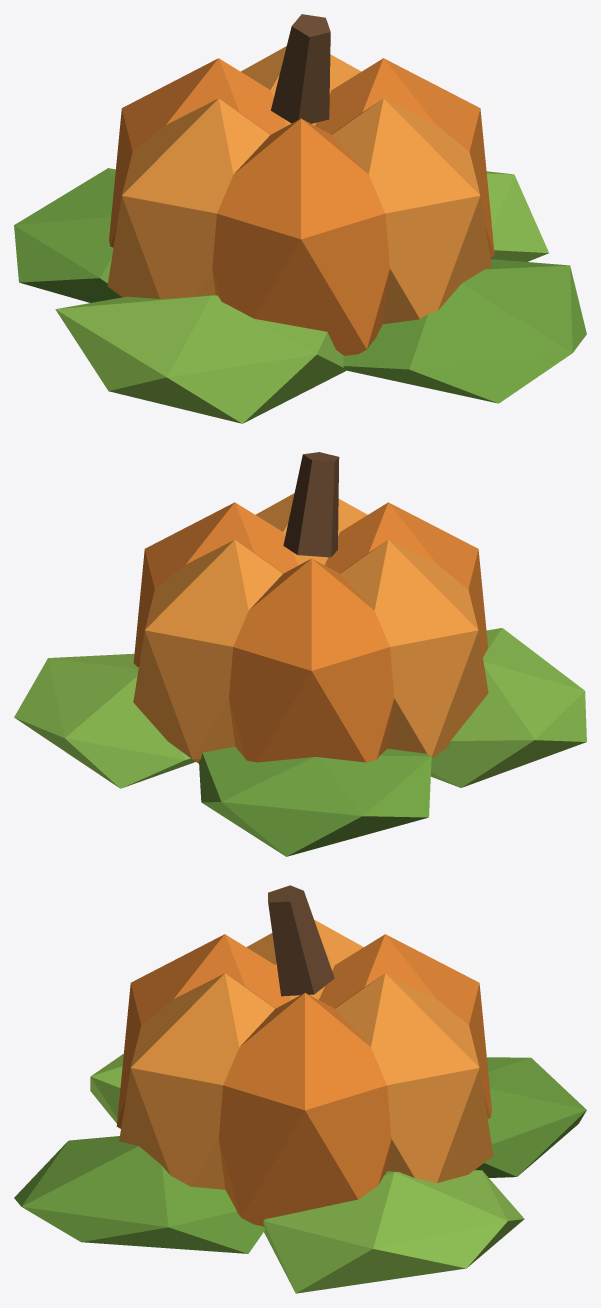
The model's file is crop_pumpkin_2.glb.
The picture shows the model from 3 angles, top to bottom: view 1: azimuth 30°, elevation 25°; view 2: azimuth 150°, elevation 25°; view 3: azimuth 270°, elevation 25°; orthographic projection. The views are drawn at different scales.
Parts seen in each view (by area): view 1: crop_pumpkin_2; view 2: crop_pumpkin_2; view 3: crop_pumpkin_2.
Boxes of the visible parts, x1,y1,x2,y2 form: crop_pumpkin_2: (14,14,586,423); crop_pumpkin_2: (14,452,586,856); crop_pumpkin_2: (14,885,586,1293).
Size of the model in its own units: 0.3285 by 0.2112 by 0.3403.
